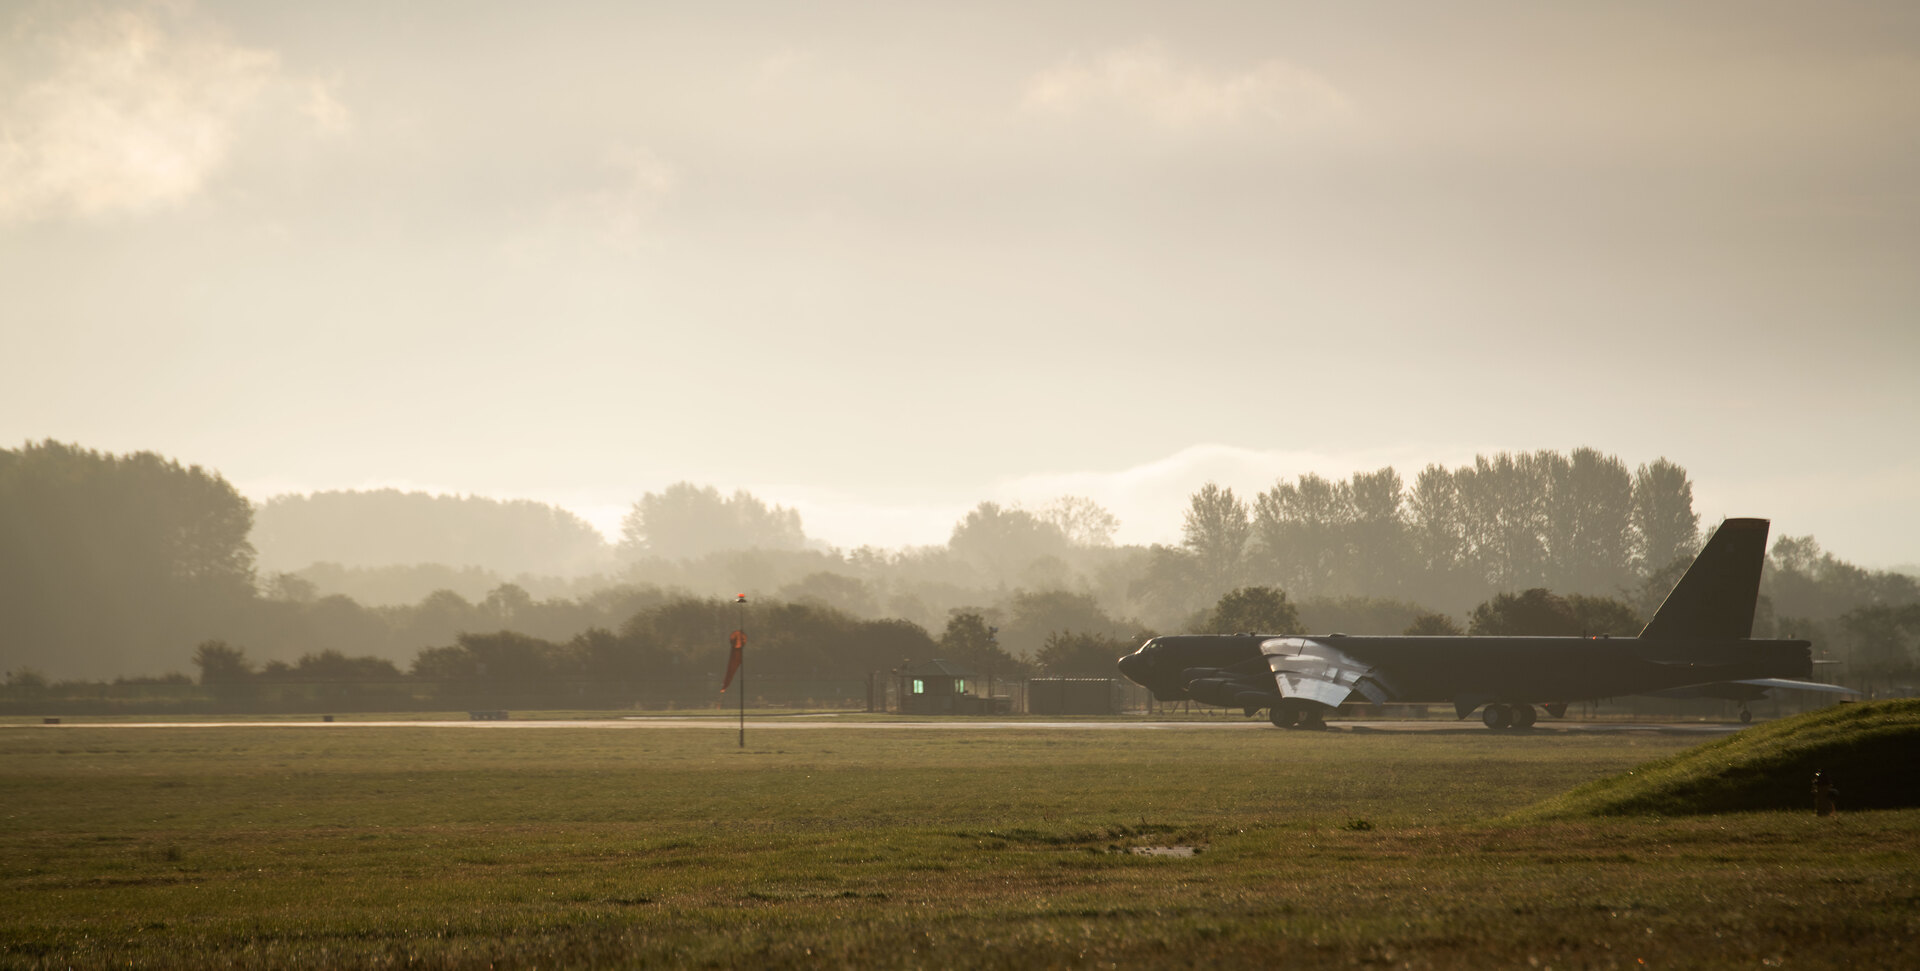B52: (1117, 516, 1866, 727)
